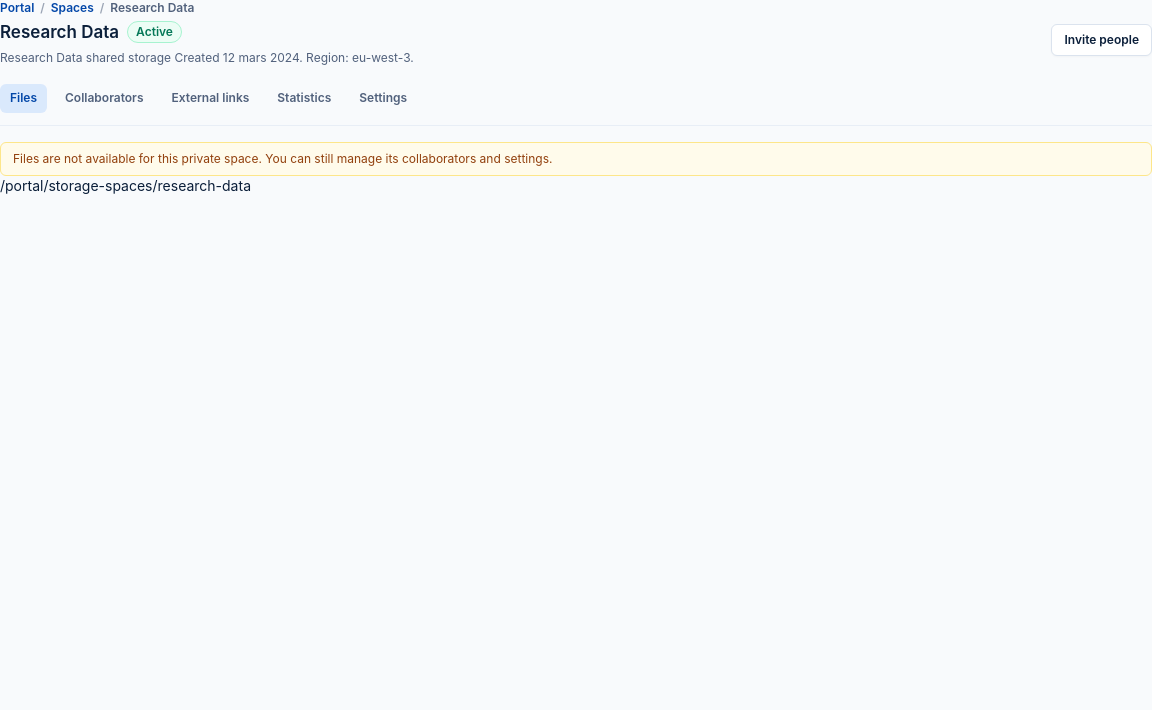
PortalStorageSpaceDetailPage › hides permanent deletion from administrative Owners without content ownership
Click the tab "Settings" at point(383, 98), box [349,84,417,112]
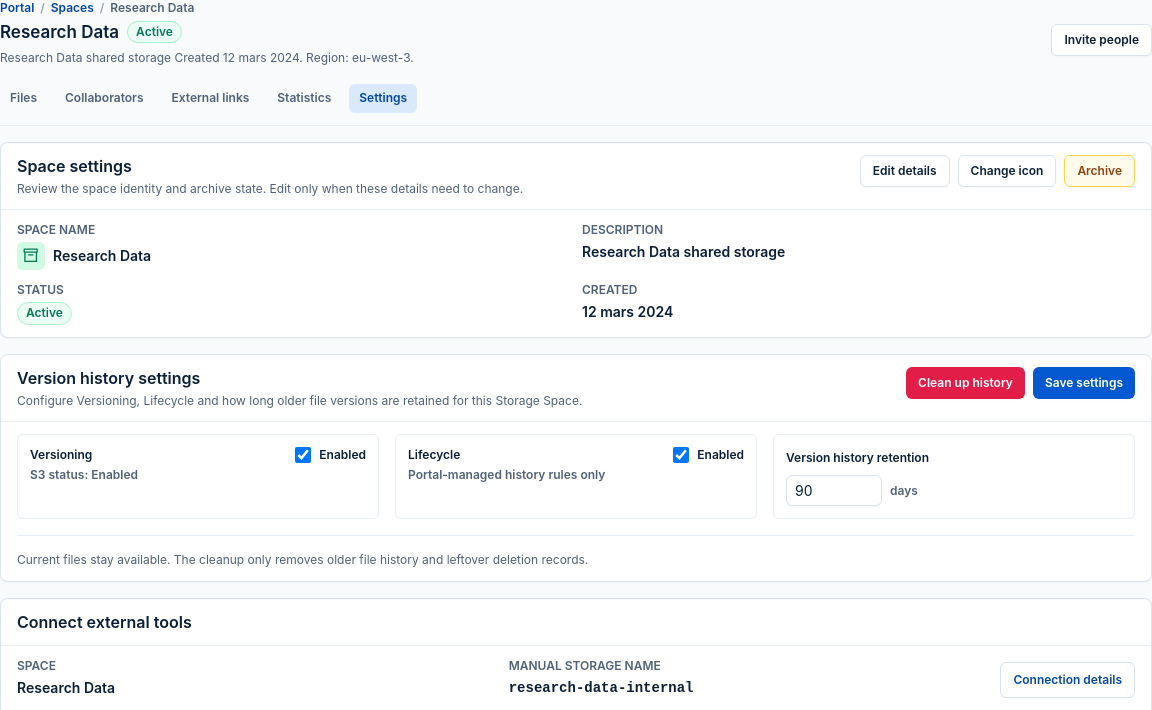
Expected: the checkbox named "Versioning" is shown, [295,447,311,463]
